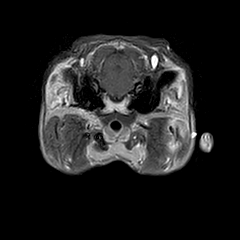Brain: (70, 19, 169, 117)
